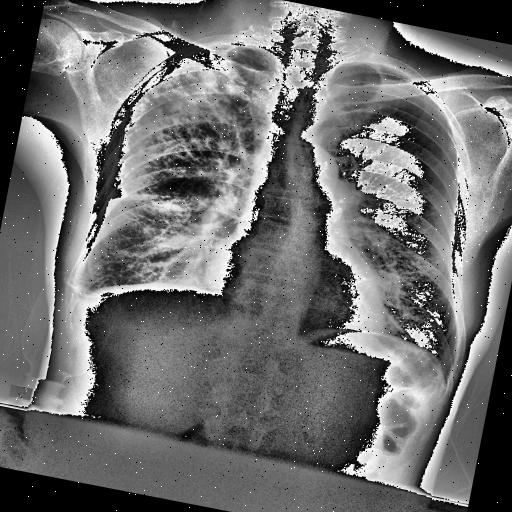10- Pleural effusion: (63, 270, 97, 307), (64, 279, 96, 309), (68, 289, 86, 307)
11- Pleural thickening: (63, 270, 97, 307), (64, 279, 96, 309), (68, 289, 86, 307)
13- Pulmonary fibrosis: (112, 22, 276, 221), (114, 46, 276, 228), (110, 28, 254, 218)
4- Consolidation: (151, 46, 237, 115)
5- ILD: (114, 46, 276, 228)
6- Infiltration: (112, 22, 276, 221), (110, 28, 254, 218)
7- Lung Opacity: (151, 46, 237, 115)
8- Nodule-Mass: (145, 40, 251, 114)
